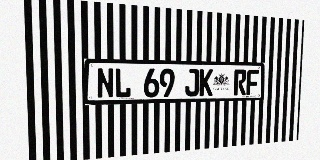6: (144, 68, 159, 97)
9: (160, 68, 175, 97)
F: (246, 69, 259, 95)
J: (185, 69, 199, 96)
K: (199, 69, 213, 96)
L: (114, 68, 131, 98)
N: (96, 68, 114, 98)
R: (233, 69, 246, 95)
